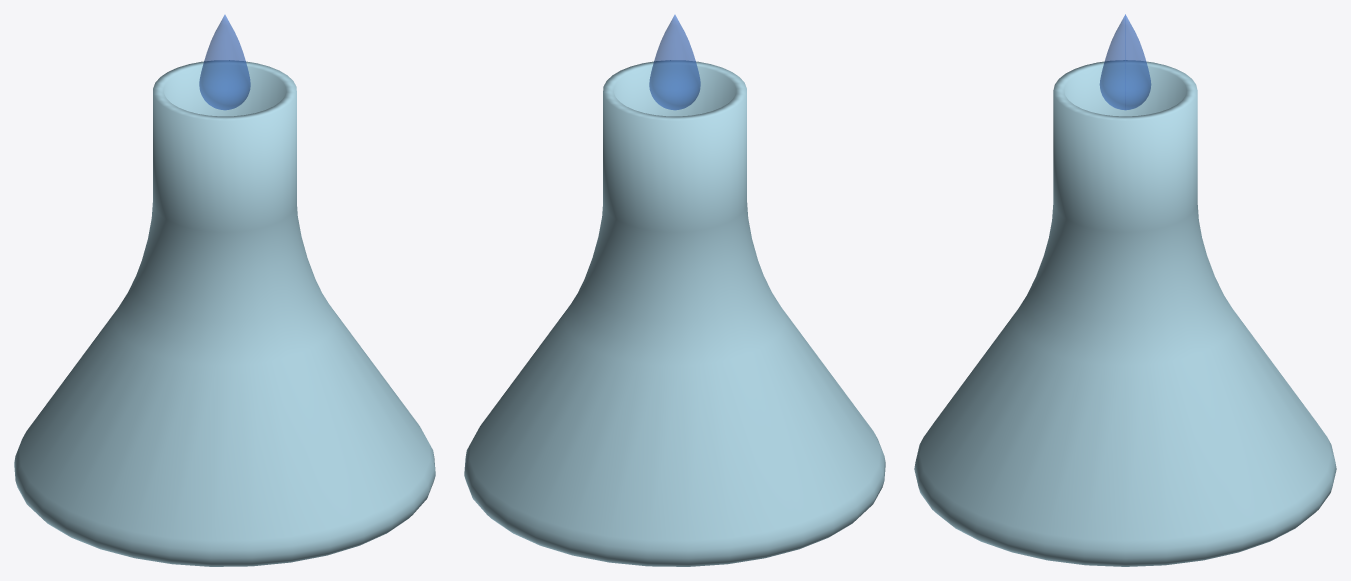
File: Elenmayer.fbx
The picture shows the model from 3 angles, left to right: view 1: azimuth 30°, elevation 25°; view 2: azimuth 150°, elevation 25°; view 3: azimuth 270°, elevation 25°; orthographic projection.
Parts seen in each view (by area): view 1: Gelas, Water; view 2: Gelas, Water; view 3: Gelas, Water.
Part boxes in pixels (<box>): Gelas: <box>14,60,435,566</box>; Water: <box>199,15,250,110</box>; Gelas: <box>464,60,885,566</box>; Water: <box>649,15,700,110</box>; Gelas: <box>914,60,1336,566</box>; Water: <box>1099,14,1151,110</box>.
Size of the model in its own units: 1638 by 2014 by 1638.
